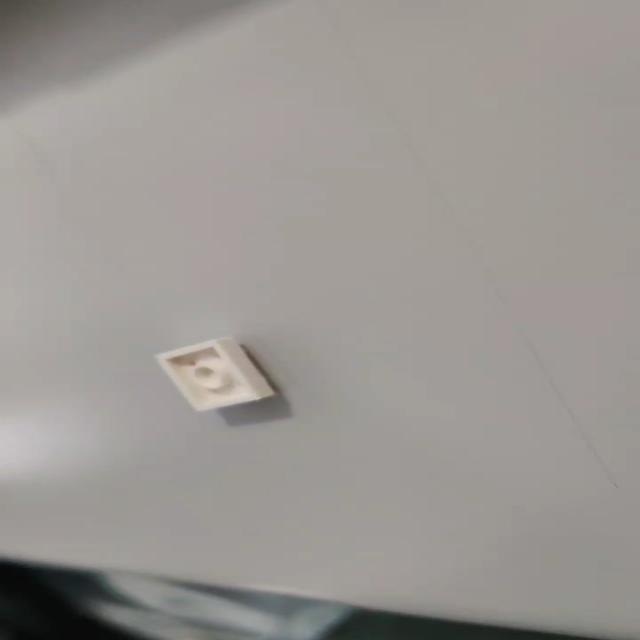C2x2x0: (151, 336, 282, 414)
